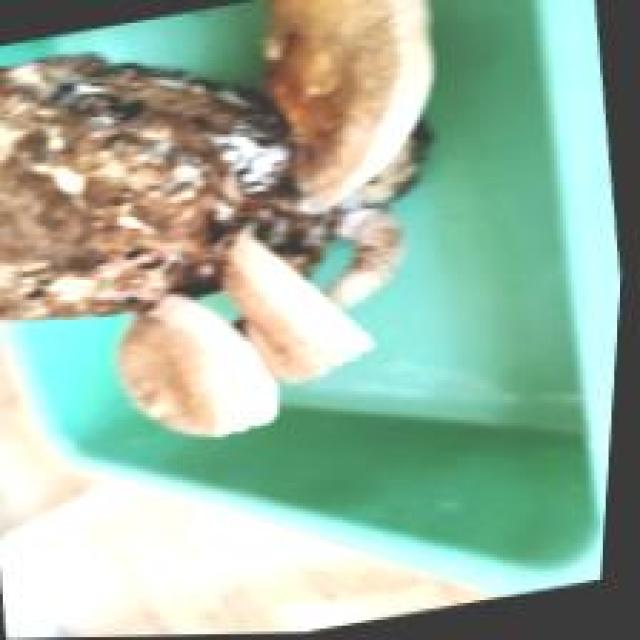chanterelle: (0, 0, 434, 440)
